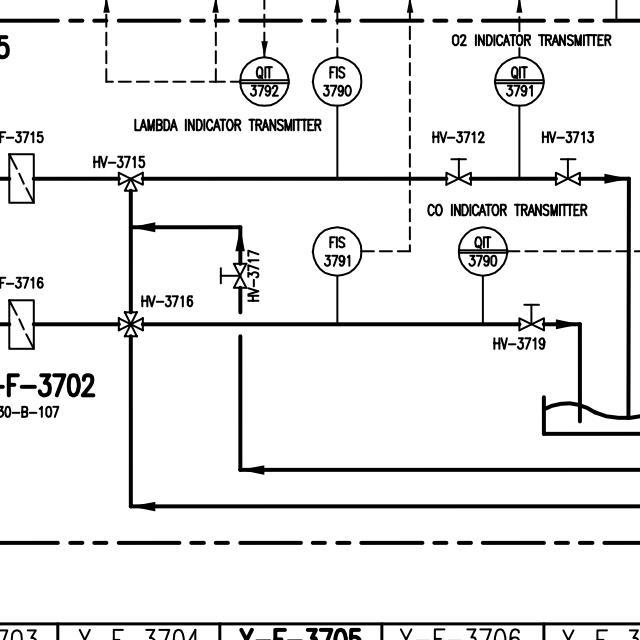3W: (115, 167, 146, 193)
4W: (116, 307, 147, 341)
F2: (4, 147, 38, 206), (4, 295, 39, 352)
HV: (442, 152, 475, 187), (515, 298, 546, 334), (552, 152, 584, 186), (217, 259, 249, 292)
